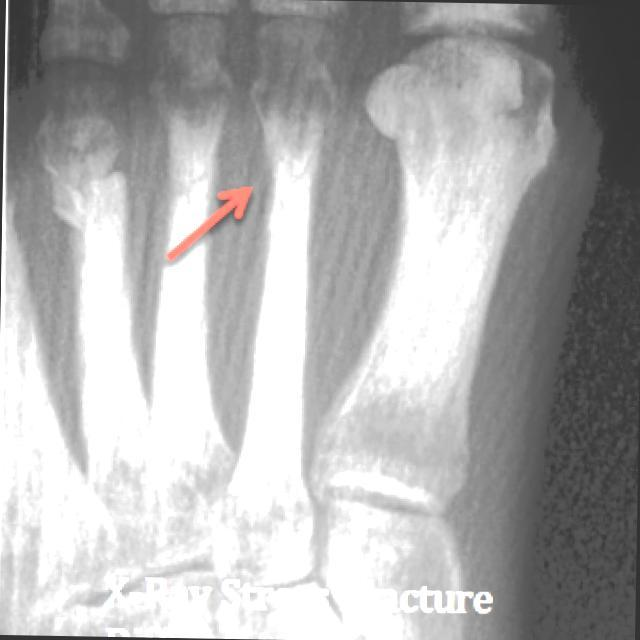HairLine Fracture: (275, 142, 311, 212)
